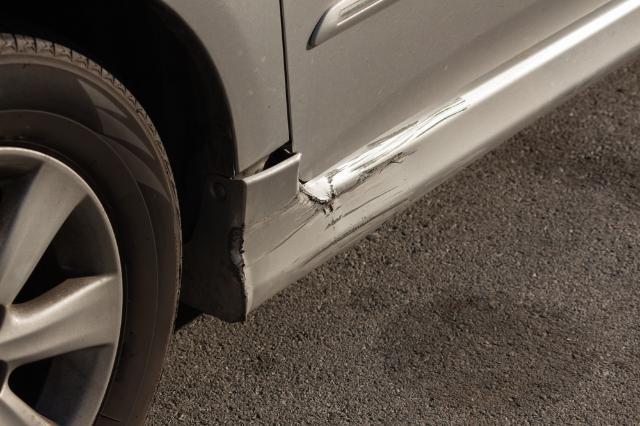scratch: (243, 96, 476, 268)
